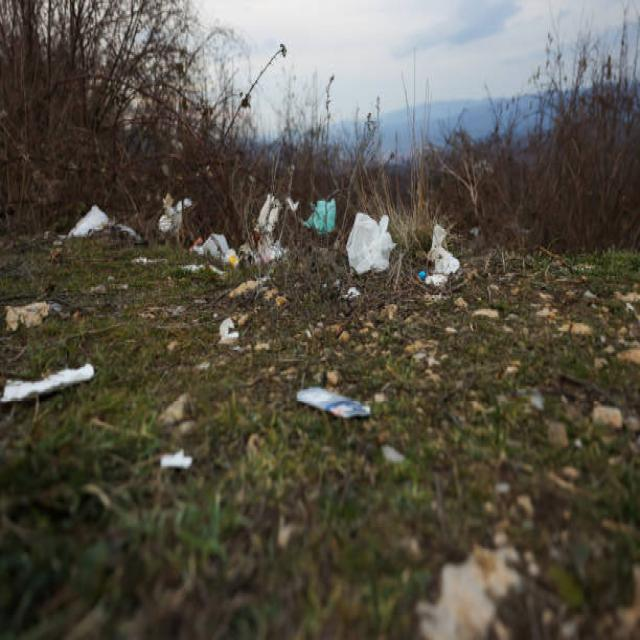plastic: (347, 216, 390, 266)
